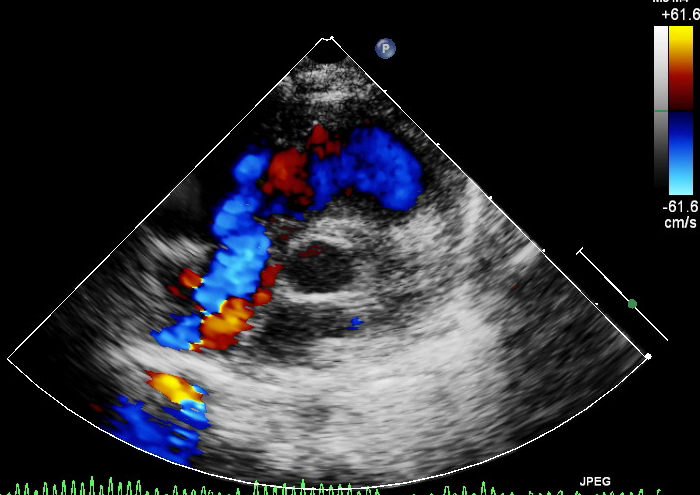TR: (196, 216, 269, 297)
